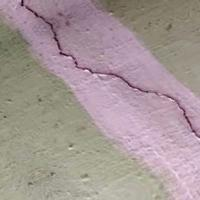crack: (17, 0, 199, 149)
